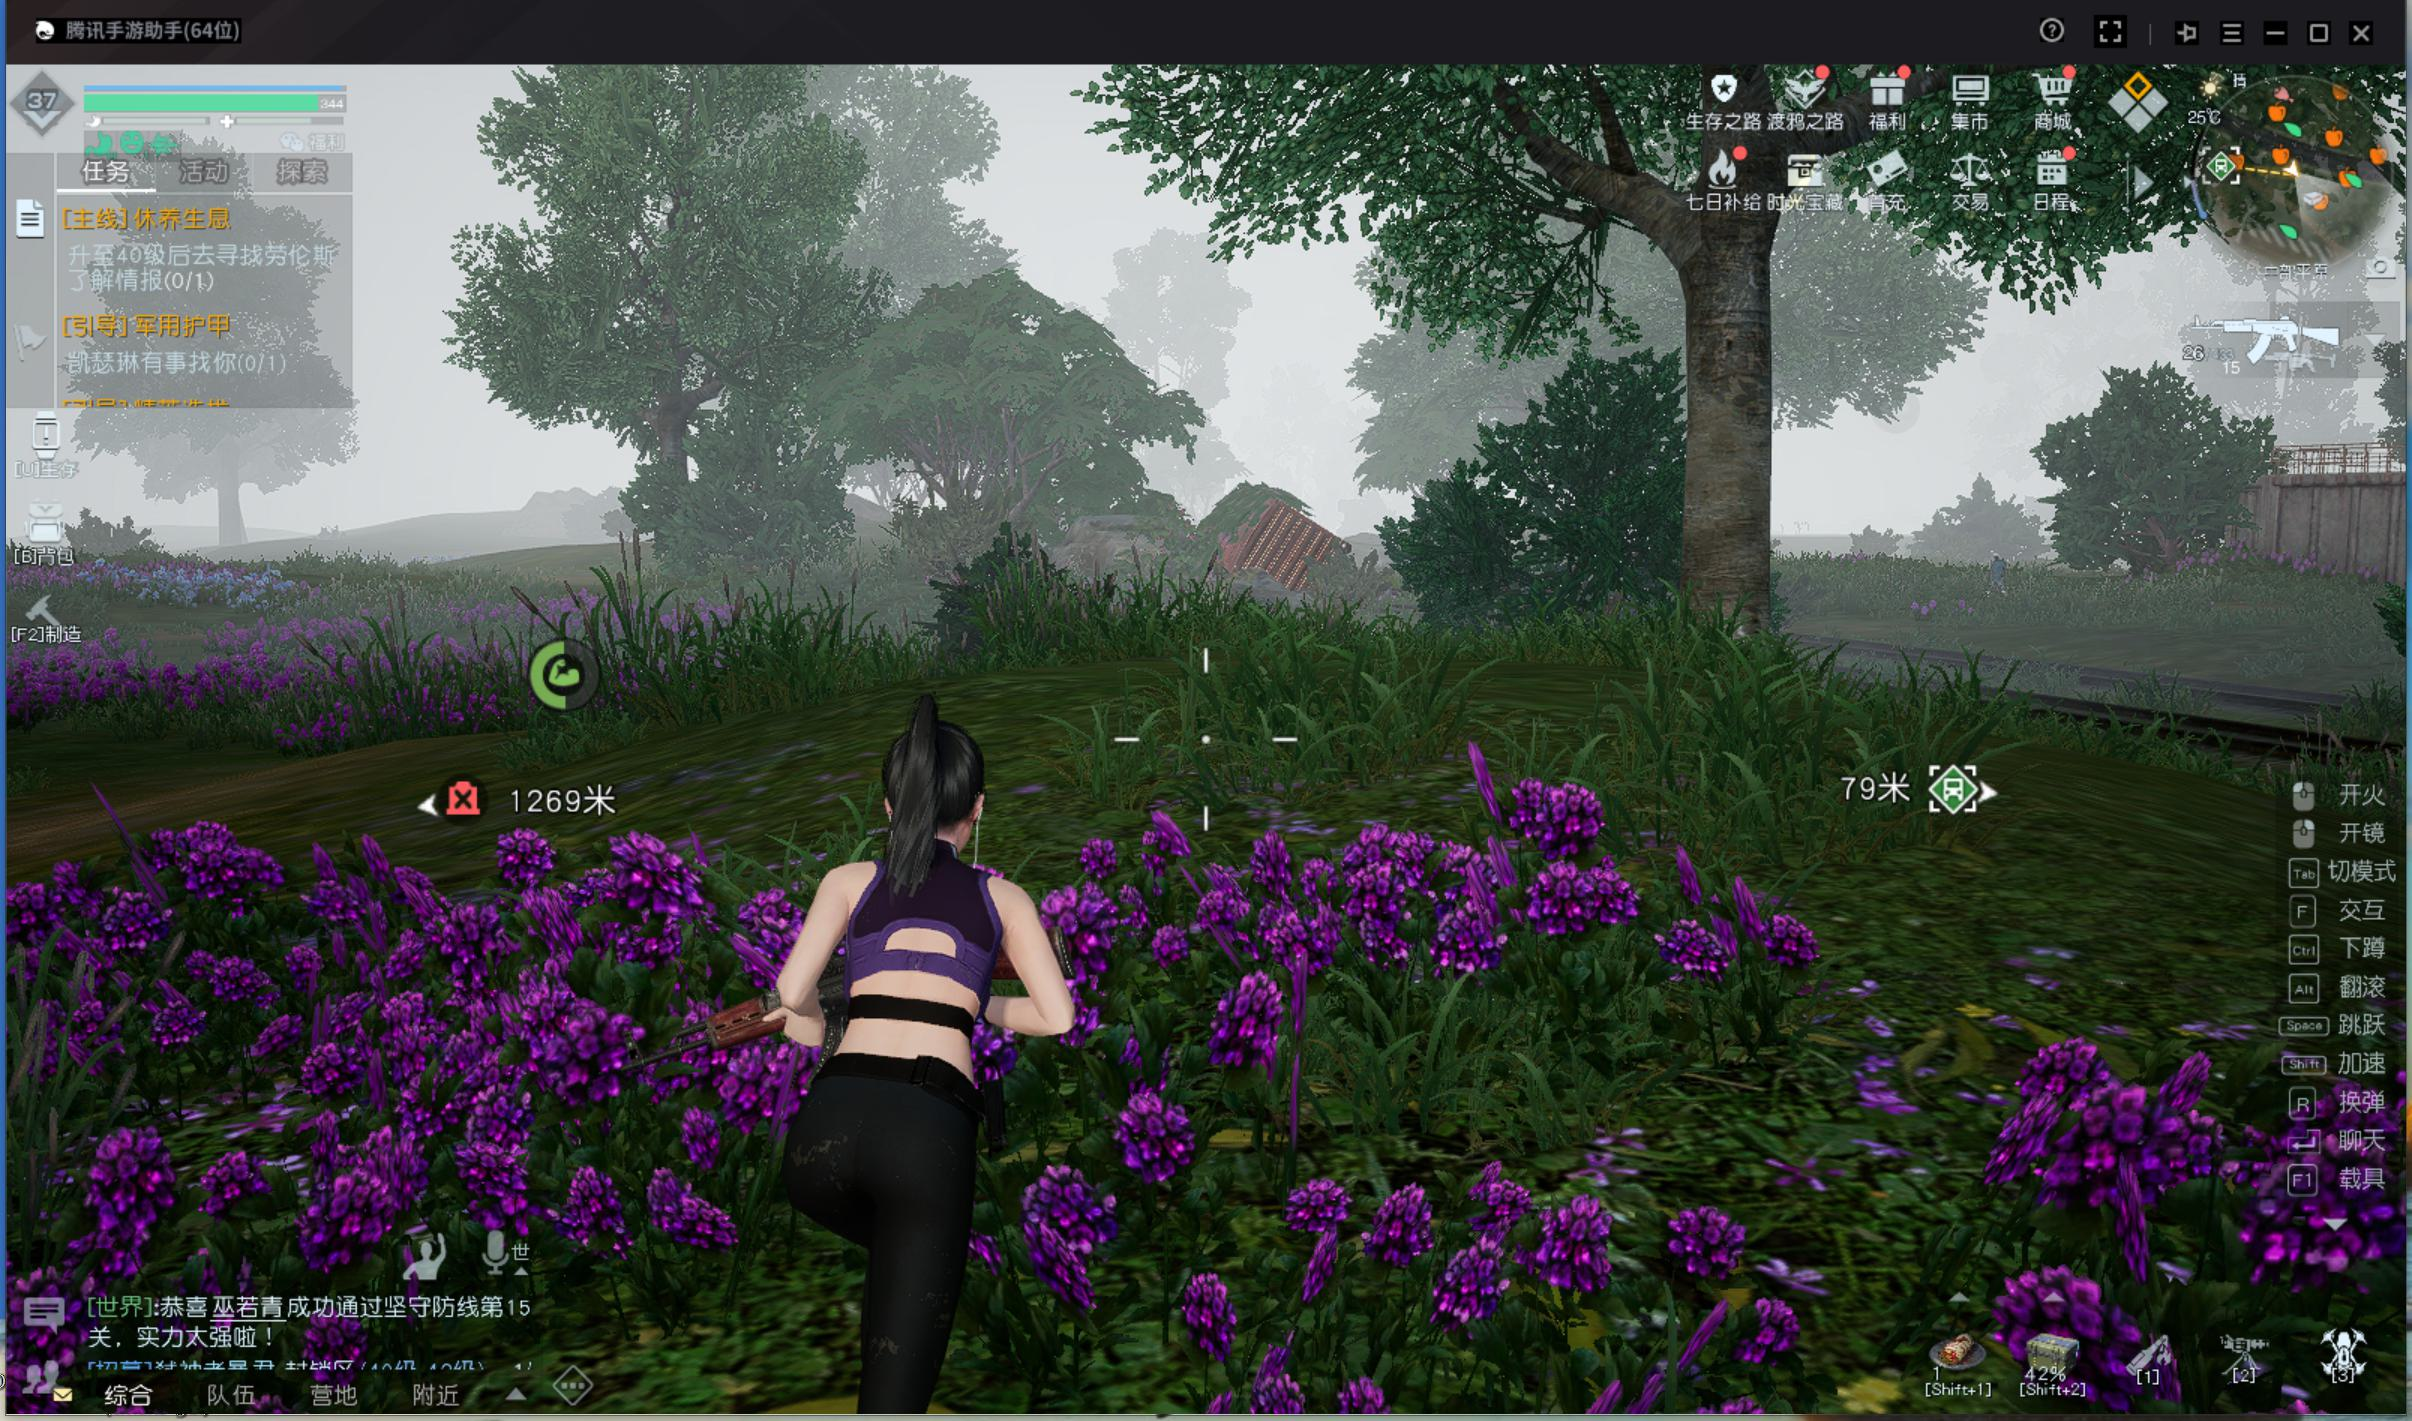tree: (1653, 283, 1817, 673), (634, 409, 699, 572), (206, 489, 254, 550)
